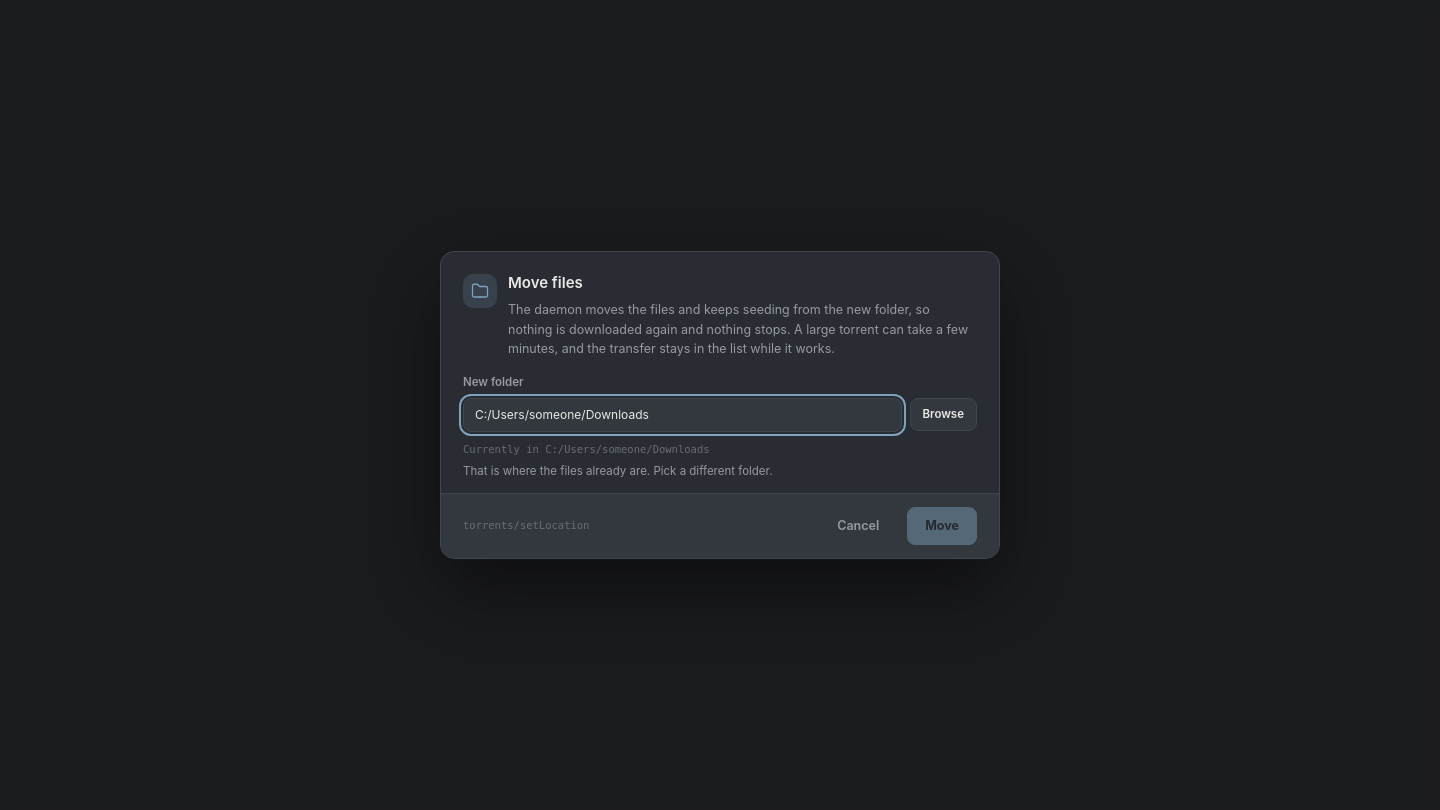
MoveDialog › fills the field from the folder picker
What coordinates should you click on to do the following:
click the button "Browse"
I would click on:
 (943, 415)
Its box is [910,398,977,431].
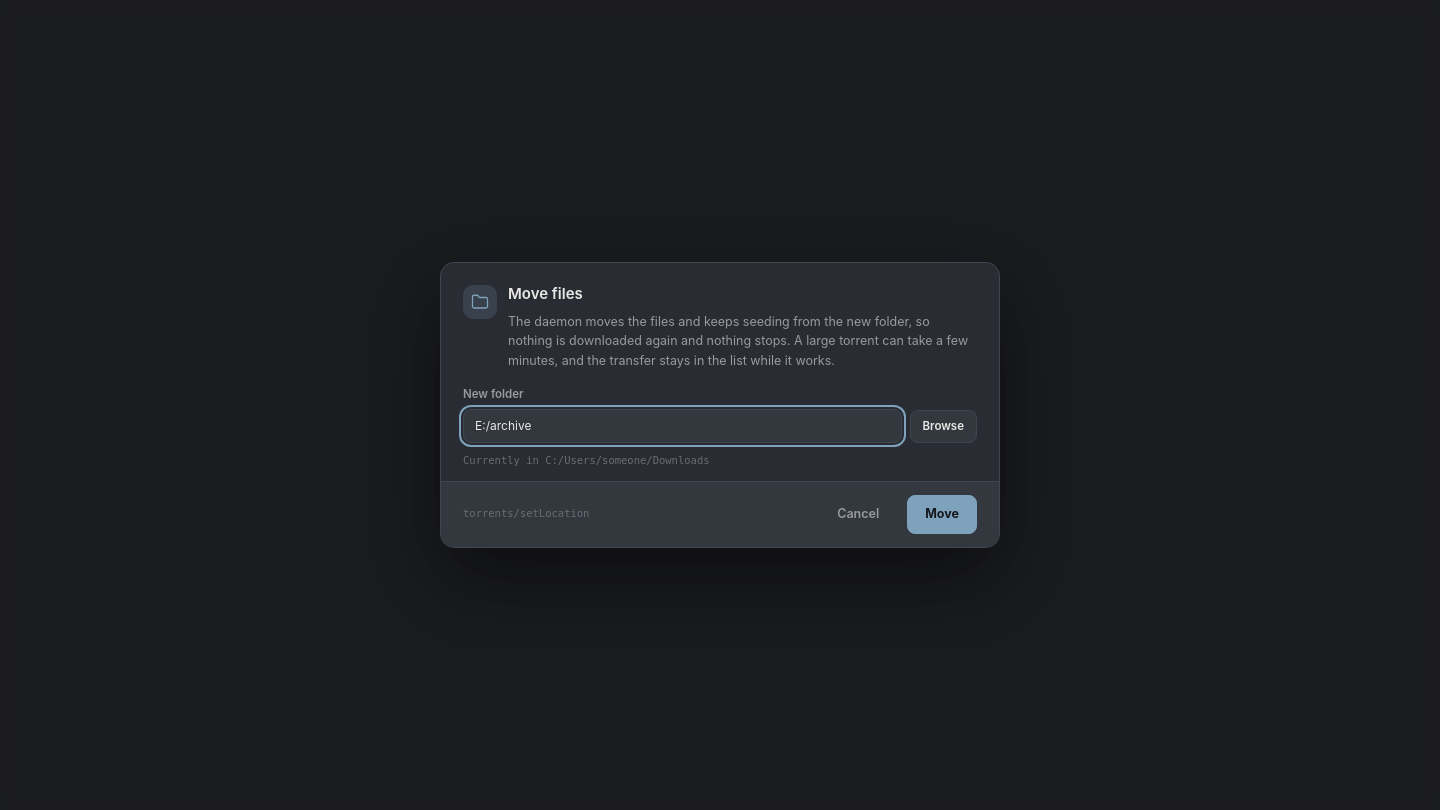
Expected: the field showing "E:/archive" is shown, [475,417,890,435]
